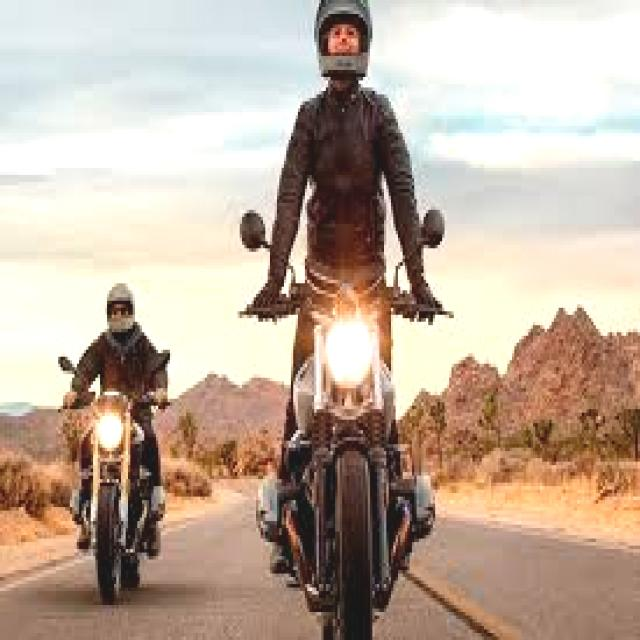MOTORCYCLE: (266, 290, 416, 634), (77, 390, 163, 607)
